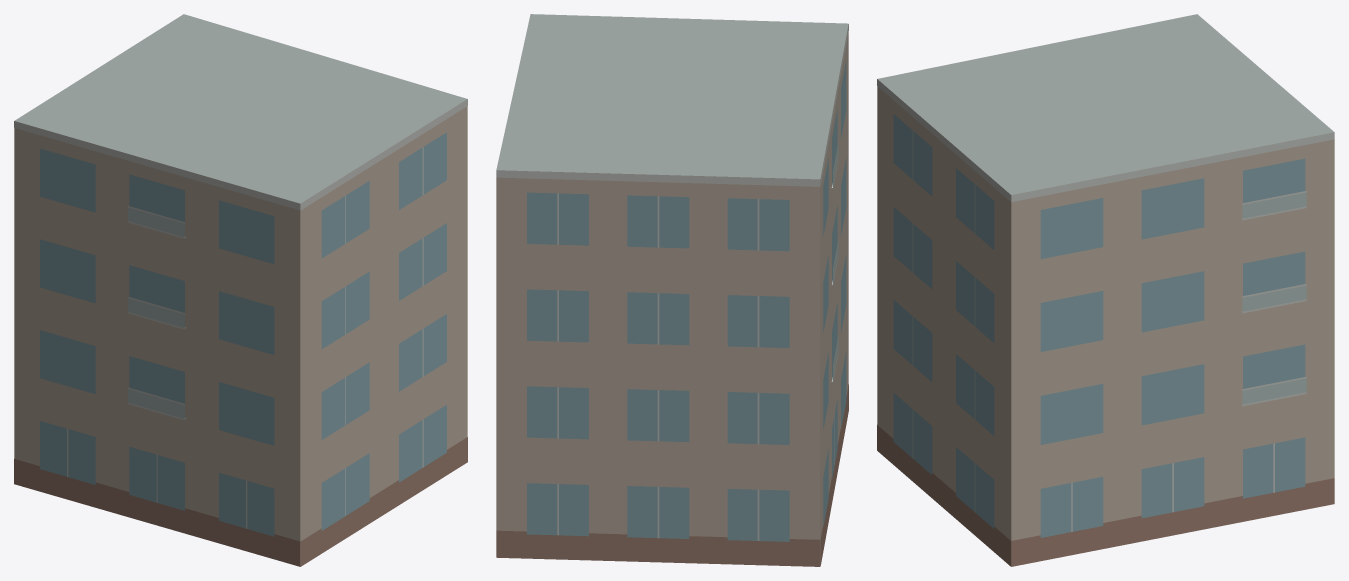
The model's file is survey-upis-32753385.glb.
The picture shows the model from 3 angles, left to right: view 1: azimuth 30°, elevation 25°; view 2: azimuth 150°, elevation 25°; view 3: azimuth 270°, elevation 25°; orthographic projection. The views are drawn at different scales.
Visible parts, largest first — view 1: survey-upis-32753385.tmp; view 2: survey-upis-32753385.tmp; view 3: survey-upis-32753385.tmp.
Part boxes in pixels (x1,y1,x2,y2): survey-upis-32753385.tmp: (14, 14, 467, 566); survey-upis-32753385.tmp: (496, 14, 848, 566); survey-upis-32753385.tmp: (877, 14, 1334, 566).
Bounding box in the file's own units: 13.44 × 12.85 × 14.34.
